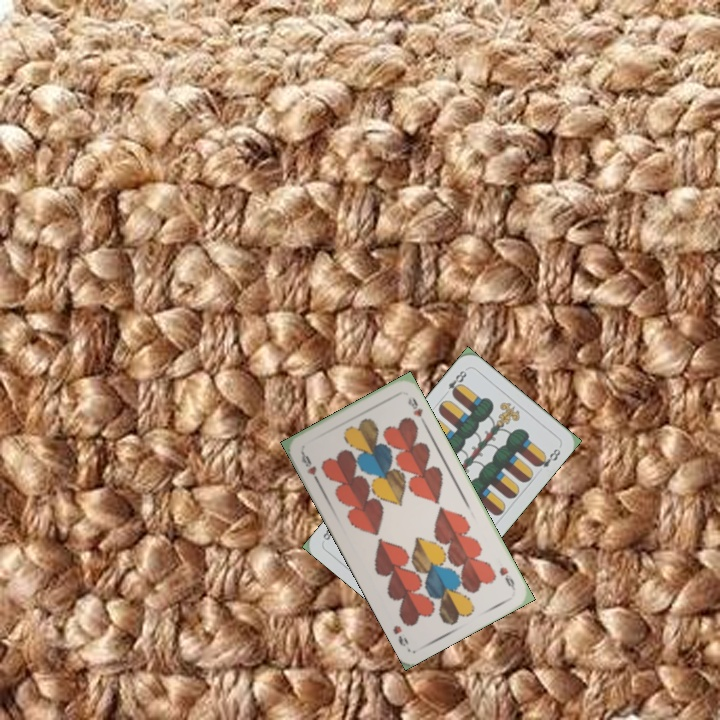E8: (444, 365, 470, 398)
H9: (297, 447, 321, 485), (495, 563, 518, 593)
